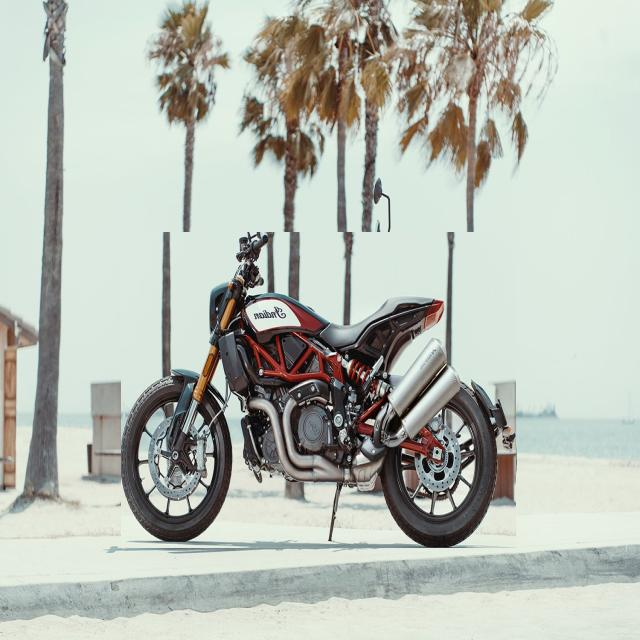motorcycle: (121, 232, 516, 548)
